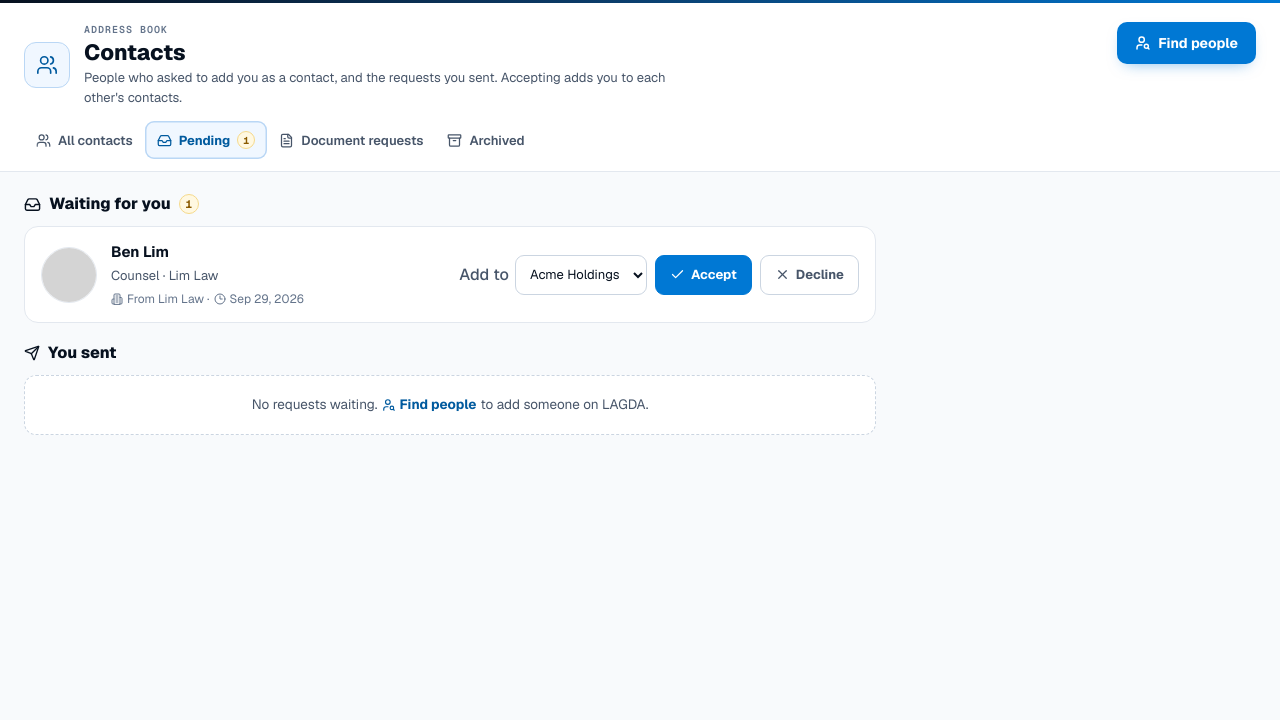
it: Pending › accepts into the chosen workspace and offers the next steps
Expected: the list item with test id "received-cc_9" shows "From Lim Law", [24,226,876,323]
Click the button with aria-label "Accept Ben Lim's request": coordinates (703, 275) [655,255,752,295]
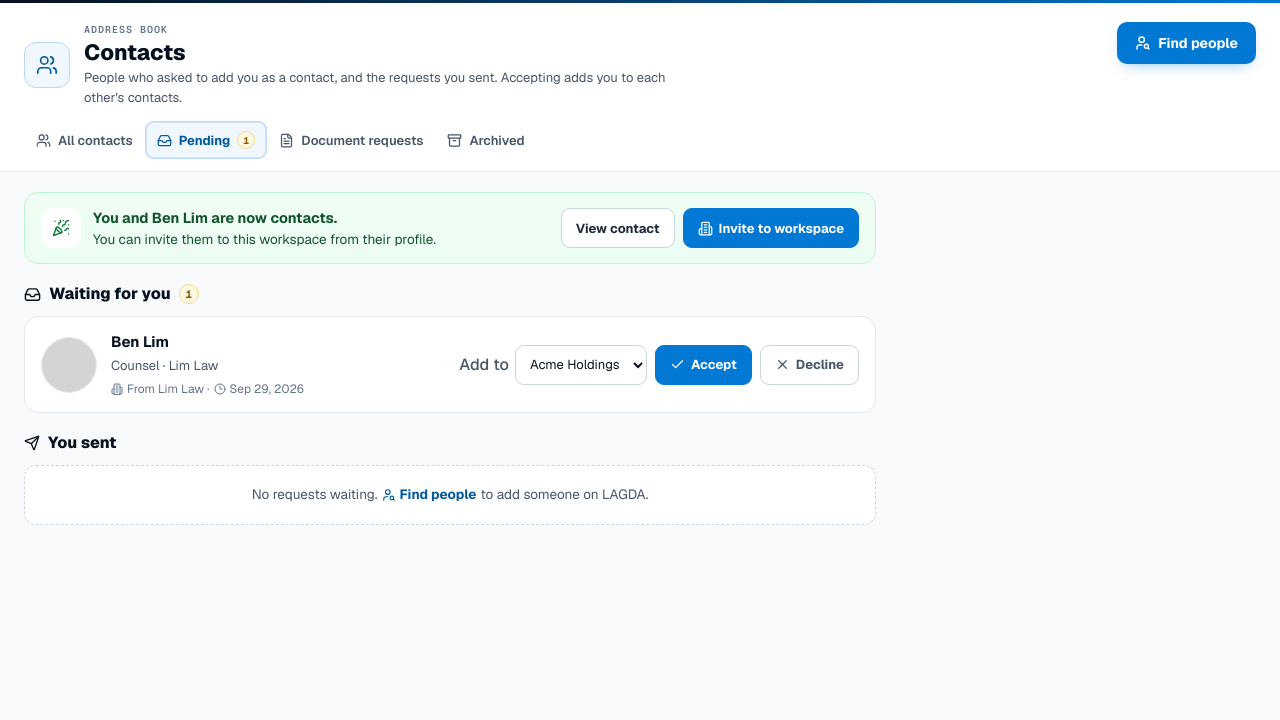
Now the message with test id "accepted-banner" shows "You and Ben Lim are now contacts.", box [24,192,876,264]
